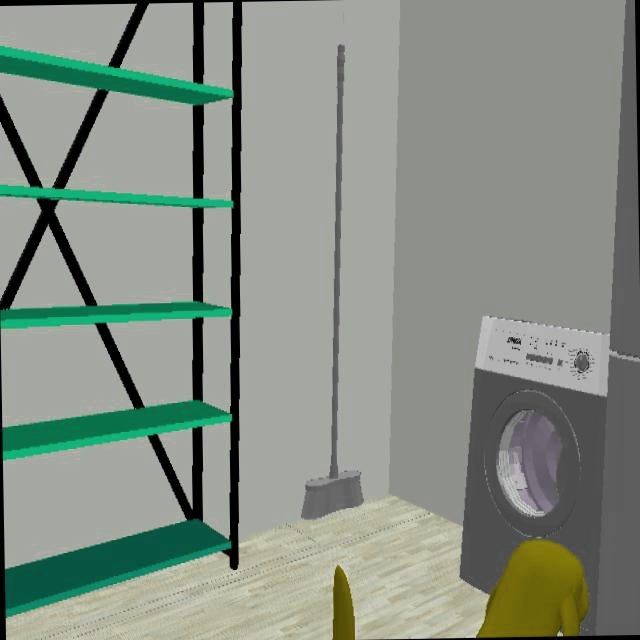shelf: (0, 2, 240, 615)
